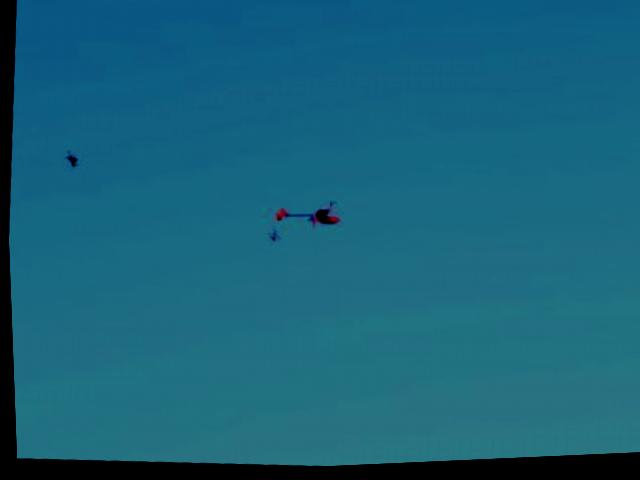uav: (265, 184, 348, 243)
